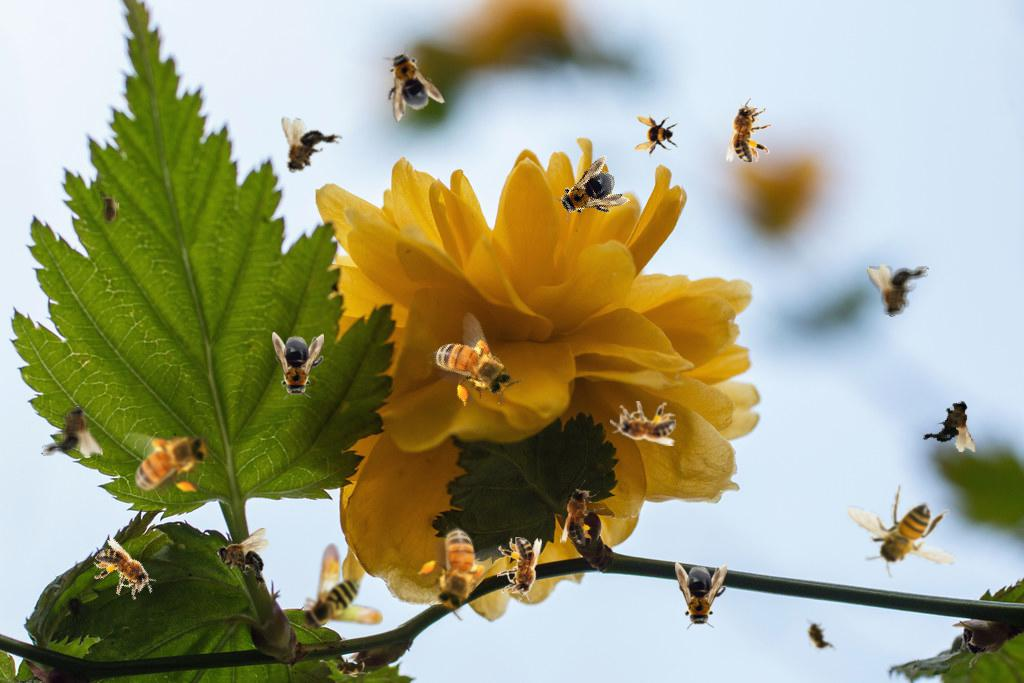Bee: (403, 510, 513, 627), (418, 307, 528, 424), (845, 484, 956, 578), (301, 543, 383, 631), (546, 154, 632, 234), (370, 40, 446, 124), (122, 428, 215, 496), (85, 535, 165, 610), (267, 114, 344, 184), (915, 391, 988, 457), (675, 562, 727, 630), (272, 332, 324, 400), (867, 264, 929, 317), (216, 528, 269, 590), (41, 405, 103, 458), (610, 401, 676, 446), (560, 480, 605, 546), (726, 97, 771, 163), (497, 537, 542, 603), (634, 114, 678, 158), (799, 613, 837, 659), (330, 656, 370, 678), (98, 190, 120, 230)
